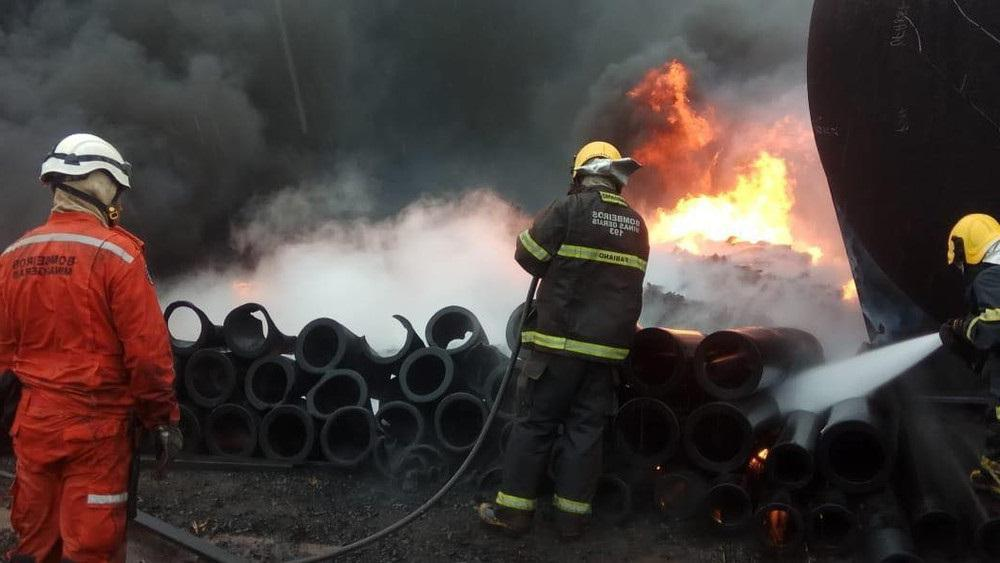Fire: (622, 66, 829, 267), (839, 278, 861, 301)
